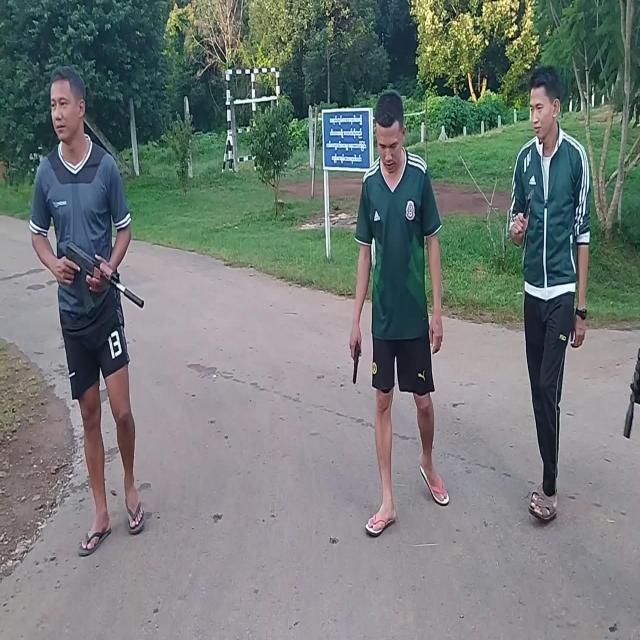gun: (66, 242, 144, 316), (352, 344, 360, 383)
